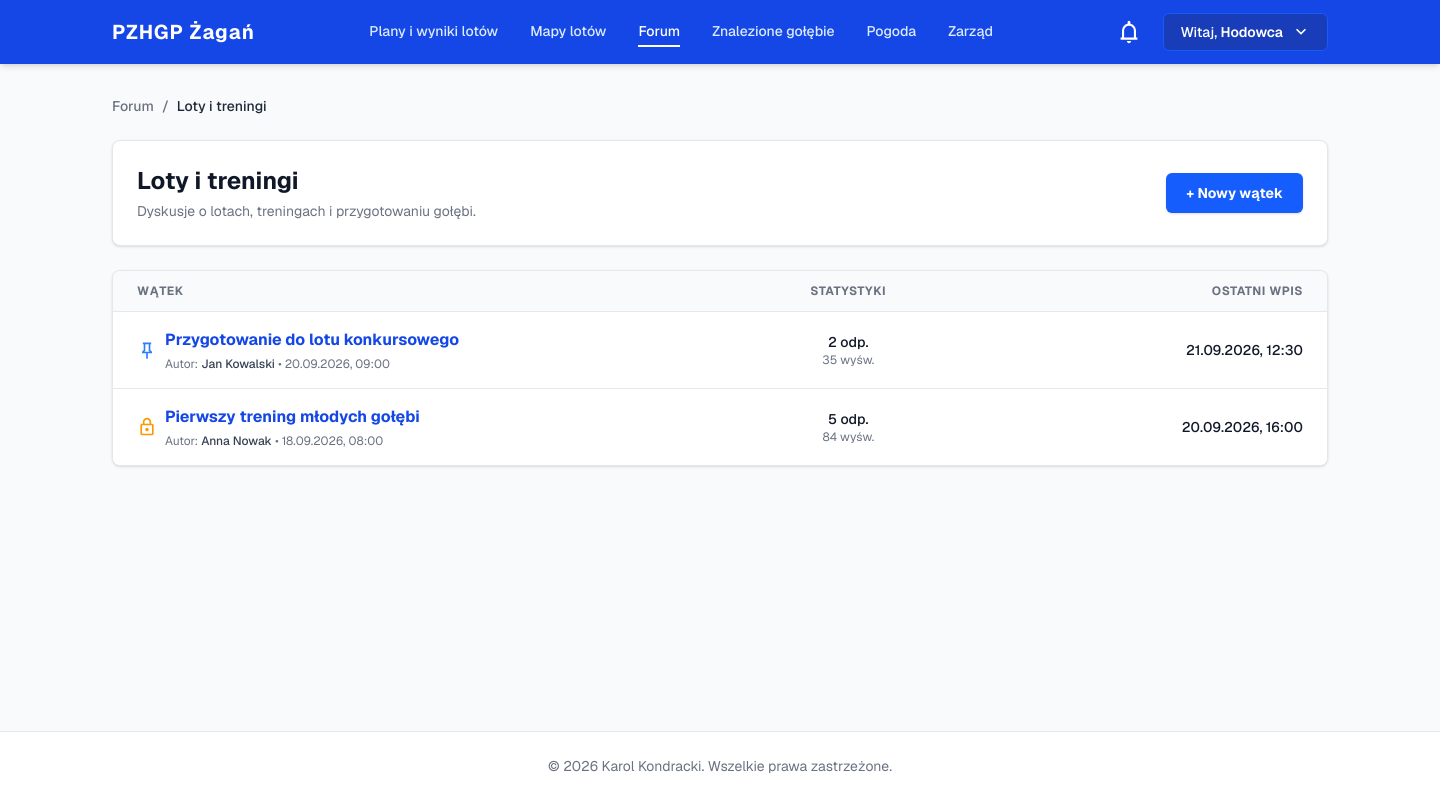
Test: Forum Category Page Tests › Authenticated User › Should close the new thread modal without creating a thread
The image size is (1440, 800).
Click the button "+ Nowy wątek" at (1235, 193), box [1166, 173, 1303, 213]
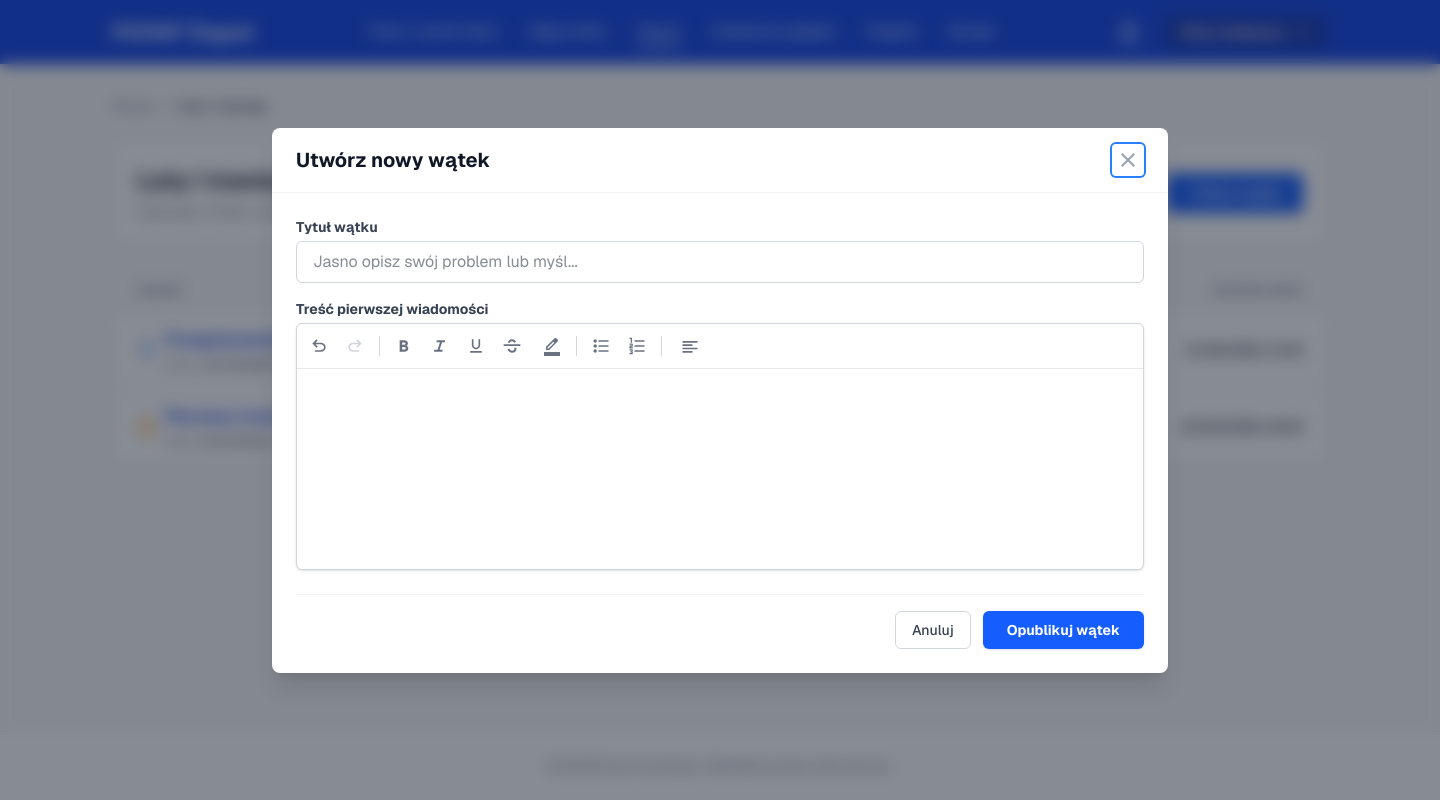
Type "Testowy wątek" into the field with id "thread-title" at (720, 262), box [296, 241, 1144, 283]
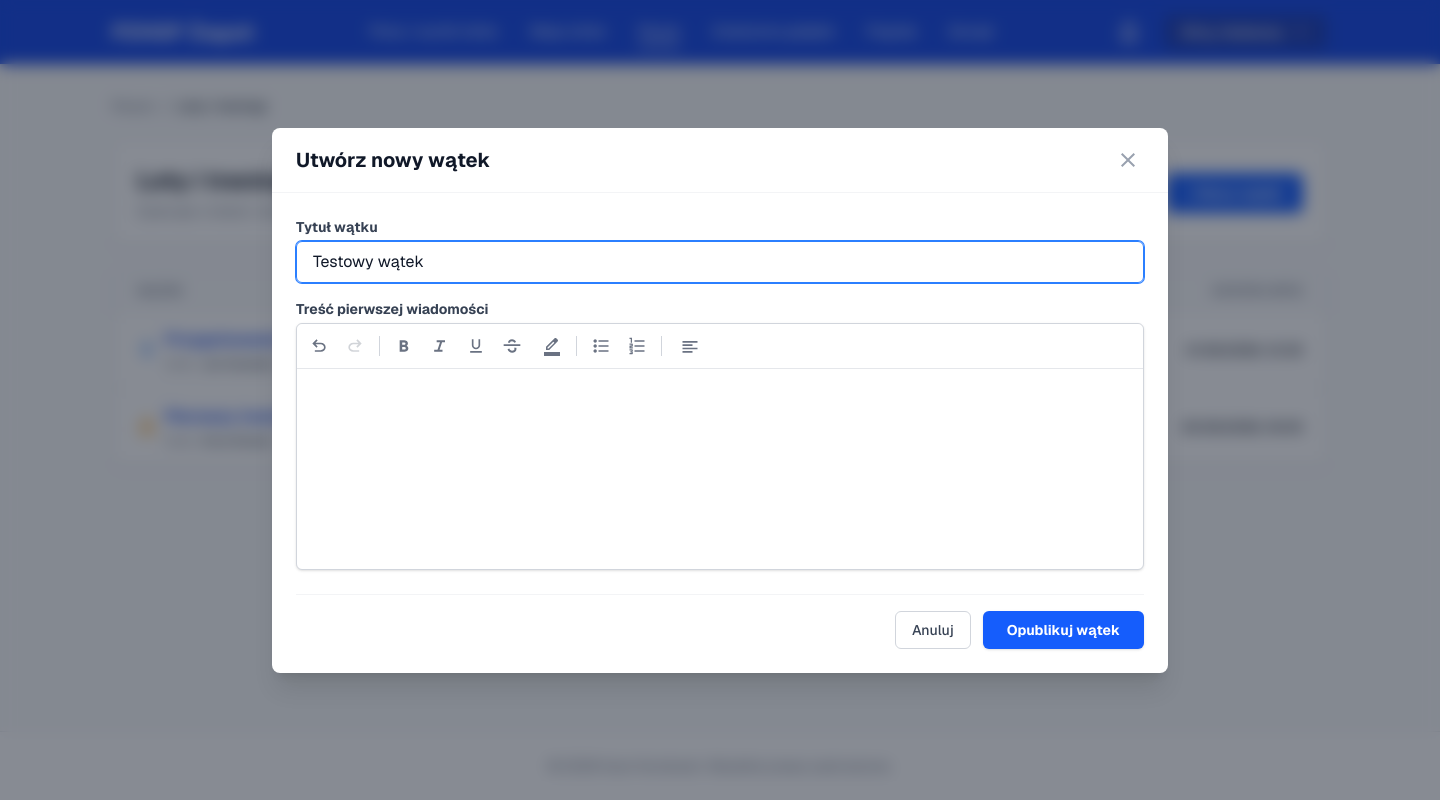
Click the button "Anuluj" at (933, 630), box [895, 611, 971, 649]
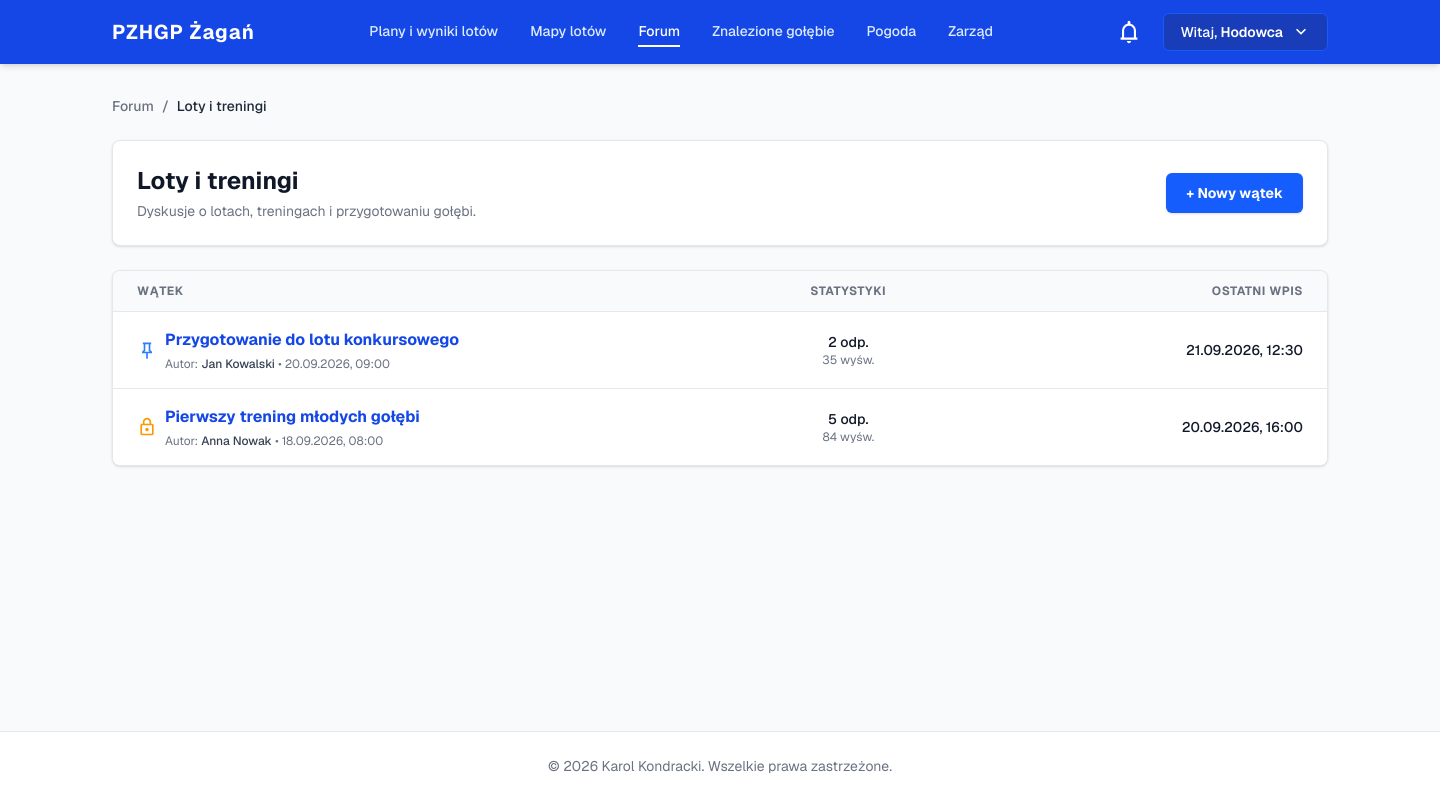
Expected: the text "Testowy wątek" is not shown
Expected: the dialog is gone
